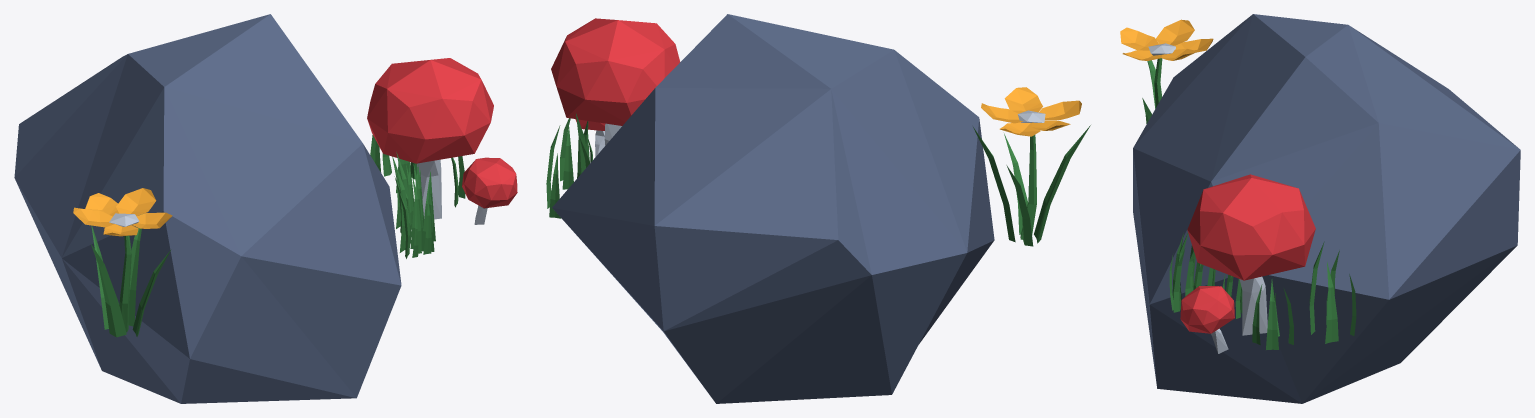
File: Rock06.fbx
The picture shows the model from 3 angles, left to right: view 1: azimuth 30°, elevation 25°; view 2: azimuth 150°, elevation 25°; view 3: azimuth 270°, elevation 25°; orthographic projection. The views are drawn at different scales.
Visible parts, largest first — view 1: Rock_06; view 2: Rock_06; view 3: Rock_06.
Part boxes in pixels (x1=…): Rock_06: x1=14, y1=14, x2=517, y2=403; Rock_06: x1=546, y1=14, x2=1090, y2=403; Rock_06: x1=1120, y1=14, x2=1520, y2=403.
Bounding box in the file's own units: 106 × 73.32 × 81.5.
